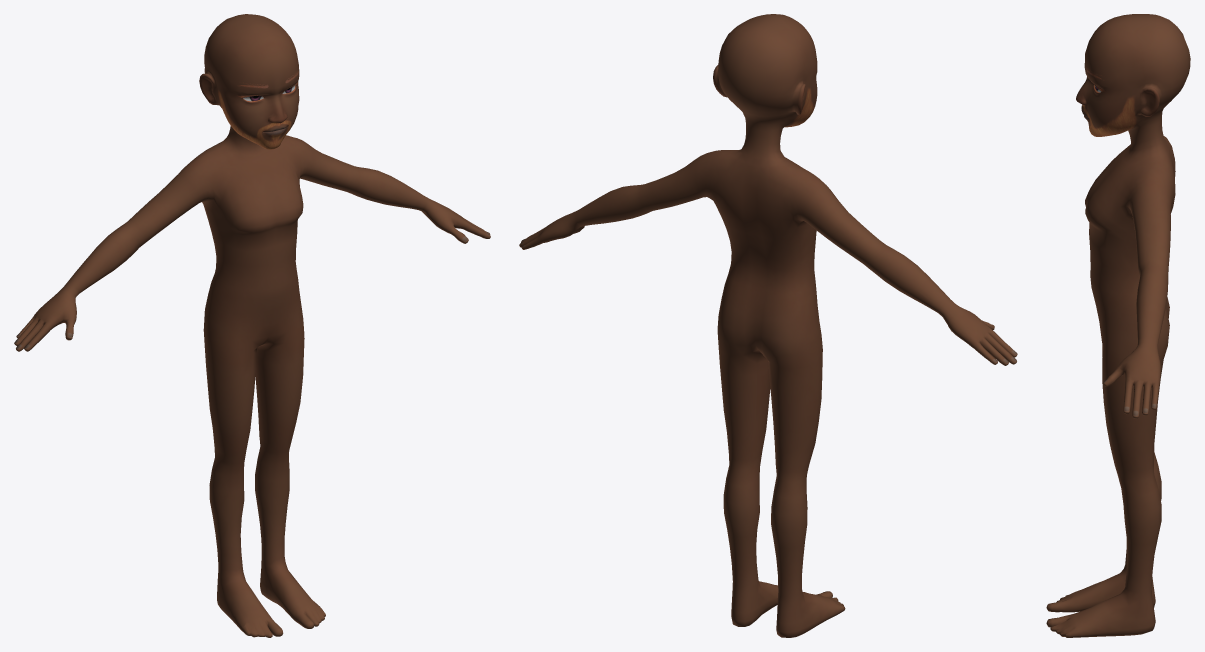
The model's file is frame_0097.glb.
The picture shows the model from 3 angles, left to right: view 1: azimuth 30°, elevation 25°; view 2: azimuth 150°, elevation 25°; view 3: azimuth 270°, elevation 25°; orthographic projection. The views are drawn at different scales.
Parts seen in each view (by area): view 1: frame_0097_head_geo; view 2: frame_0097_head_geo; view 3: frame_0097_head_geo.
Part boxes in pixels (box(x1,y1,x2,y2)): frame_0097_head_geo: box(14, 14, 490, 637); frame_0097_head_geo: box(519, 14, 1017, 637); frame_0097_head_geo: box(1046, 14, 1190, 637).
Bounding box in the file's own units: 1.28 × 1.5 × 0.3253.
Materials: 3 (3 with a texture image).
